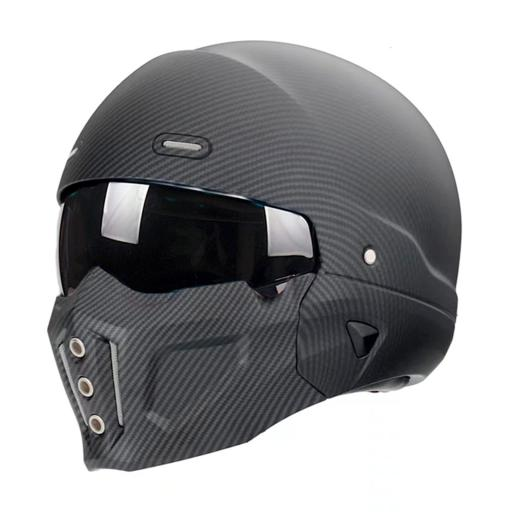helmet-detection: (6, 2, 494, 493)
